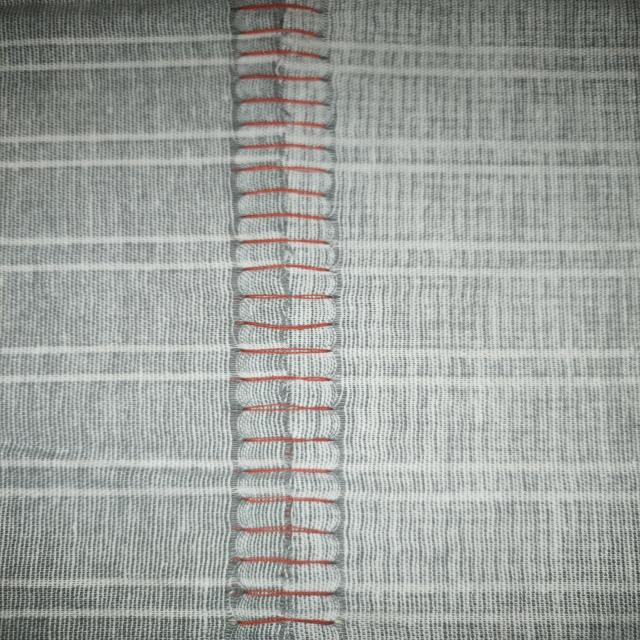gray stitch: (220, 0, 353, 635)
